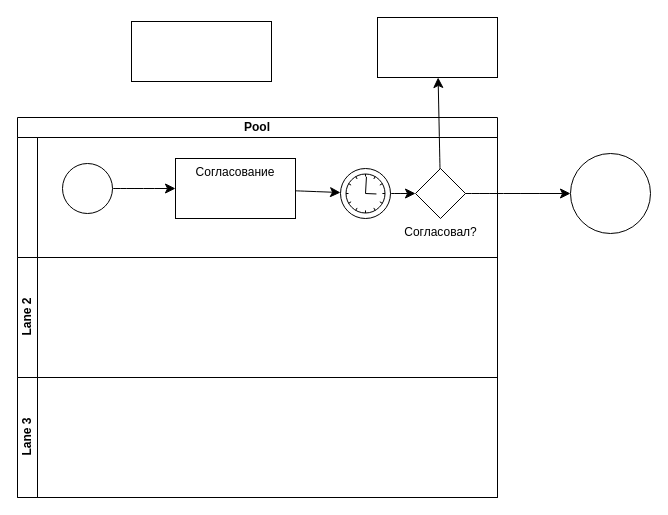
Image size: 668x515. Some labels were removed from this diagram. Here are the shapes that lost their labels. From the top down, the box of each, then its label:
(130, 20, 272, 82): Решение (Документ)
(376, 16, 498, 78): Возврат в общую очередь
(16, 136, 498, 258): Участник согласования
